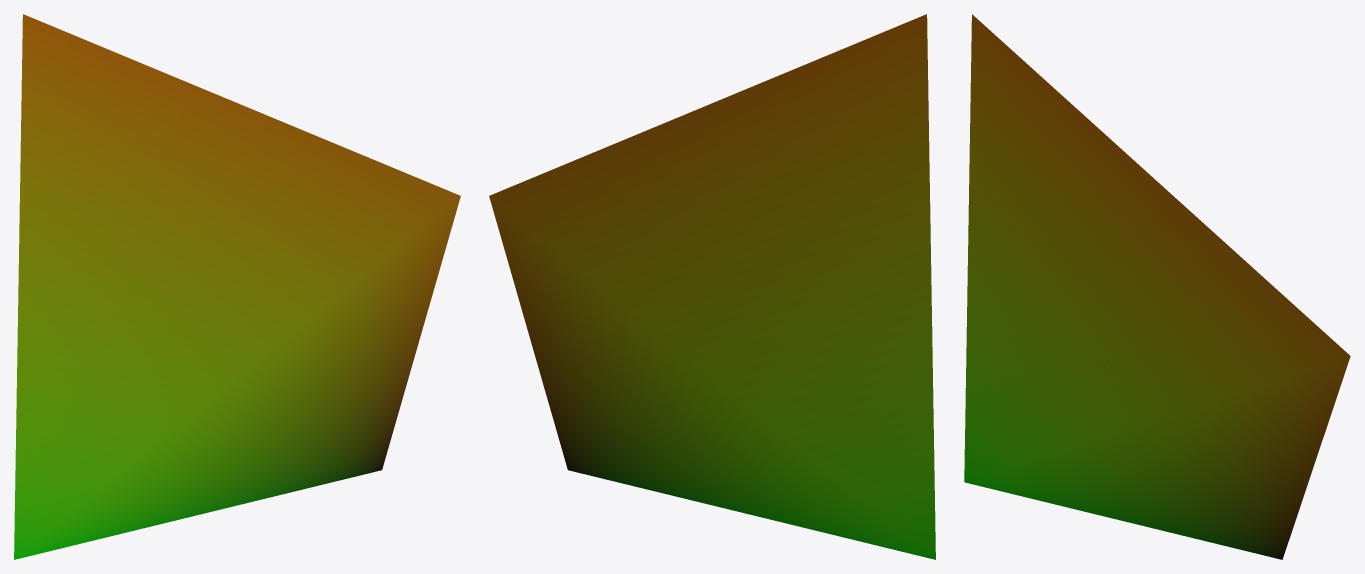
Rendered from Var2_LOD3.fbx.
3 views of the same model, side by side, from view 1: azimuth 30°, elevation 25°; view 2: azimuth 150°, elevation 25°; view 3: azimuth 330°, elevation 25° (orthographic). The views are drawn at different scales.
Parts seen in each view (by area): view 1: _f8c1_Var2_LOD3; view 2: _f8c1_Var2_LOD3; view 3: _f8c1_Var2_LOD3.
Boxes of the visible parts, x1,y1,x2,y2 form: _f8c1_Var2_LOD3: (14, 14, 460, 559); _f8c1_Var2_LOD3: (489, 14, 935, 559); _f8c1_Var2_LOD3: (964, 14, 1350, 559).
Size of the model in its own units: 37.71 by 43.85 by 6.57e-06.
